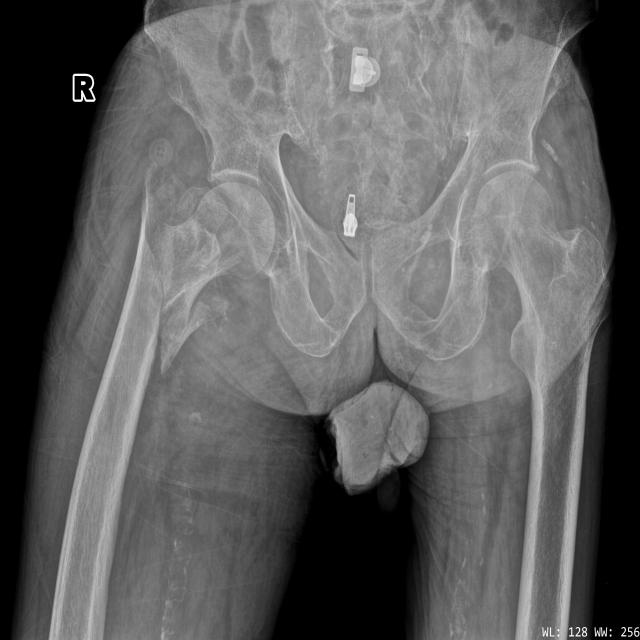right-intertrochanteric: (158, 182, 275, 376), (106, 161, 160, 384)
